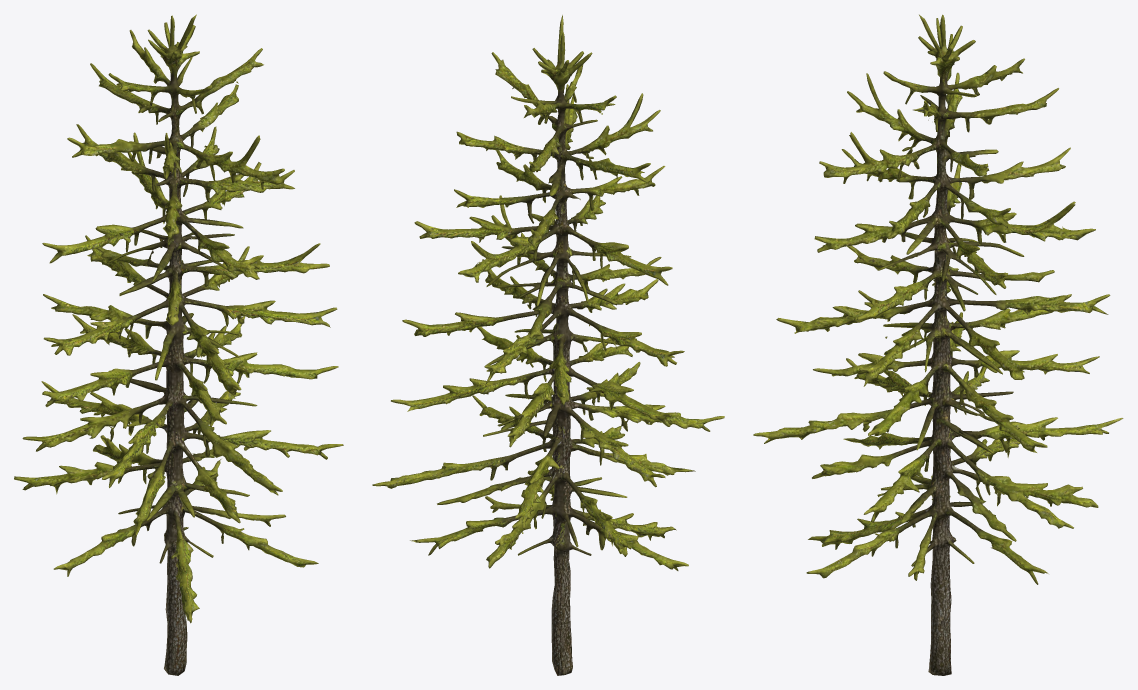
The model's file is woodland_tree_04.glb.
3 renders of one model, left to right at view 1: azimuth 30°, elevation 25°; view 2: azimuth 150°, elevation 25°; view 3: azimuth 270°, elevation 25°, orthographic. The views are drawn at different scales.
Parts seen in each view (by area): view 1: tripo_node_4aef9d0e-7d45-463a-9257-989e3a44c034; view 2: tripo_node_4aef9d0e-7d45-463a-9257-989e3a44c034; view 3: tripo_node_4aef9d0e-7d45-463a-9257-989e3a44c034.
Part boxes in pixels (bbox=[...]): tripo_node_4aef9d0e-7d45-463a-9257-989e3a44c034: bbox=[14, 14, 343, 675]; tripo_node_4aef9d0e-7d45-463a-9257-989e3a44c034: bbox=[372, 15, 724, 675]; tripo_node_4aef9d0e-7d45-463a-9257-989e3a44c034: bbox=[753, 14, 1123, 675].
Bounding box in the file's own units: 0.3997 × 0.9775 × 0.4931.
Materials: 1 (1 with a texture image).
